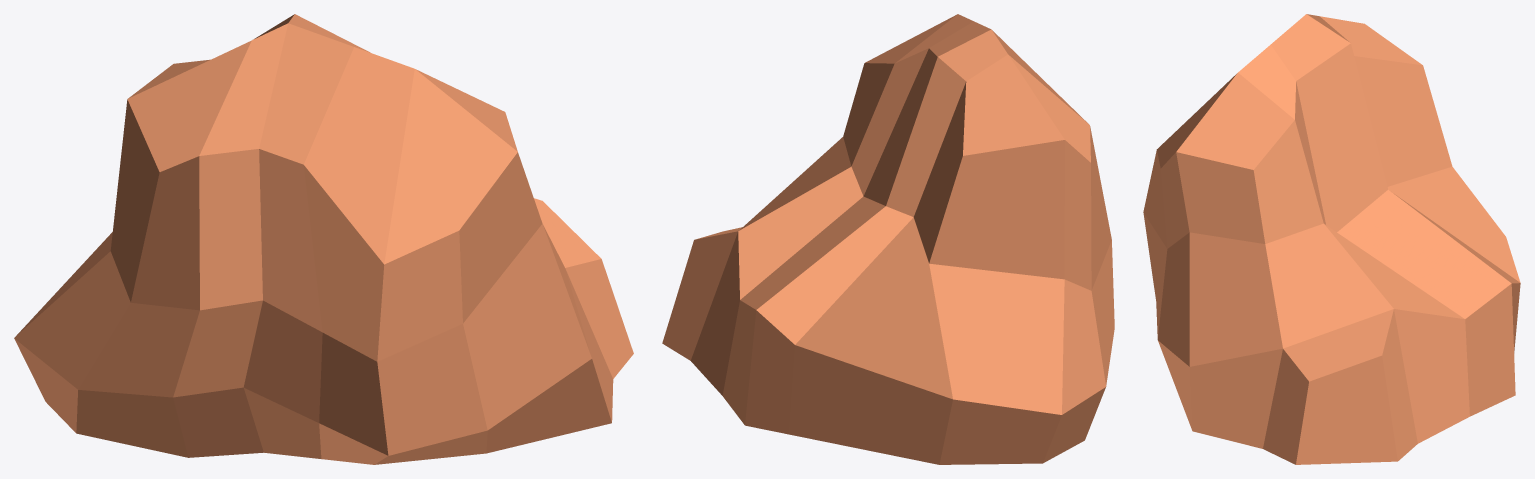
Rendered from Rock_4.fbx.
3 renders of one model, left to right at view 1: azimuth 30°, elevation 25°; view 2: azimuth 150°, elevation 25°; view 3: azimuth 270°, elevation 25°, orthographic. The views are drawn at different scales.
Parts seen in each view (by area): view 1: Rock_4; view 2: Rock_4; view 3: Rock_4.
Part boxes in pixels (<box>): Rock_4: <box>14,14,633,464</box>; Rock_4: <box>662,14,1114,464</box>; Rock_4: <box>1143,14,1520,464</box>.
Bounding box in the file's own units: 158 × 119 × 127.
